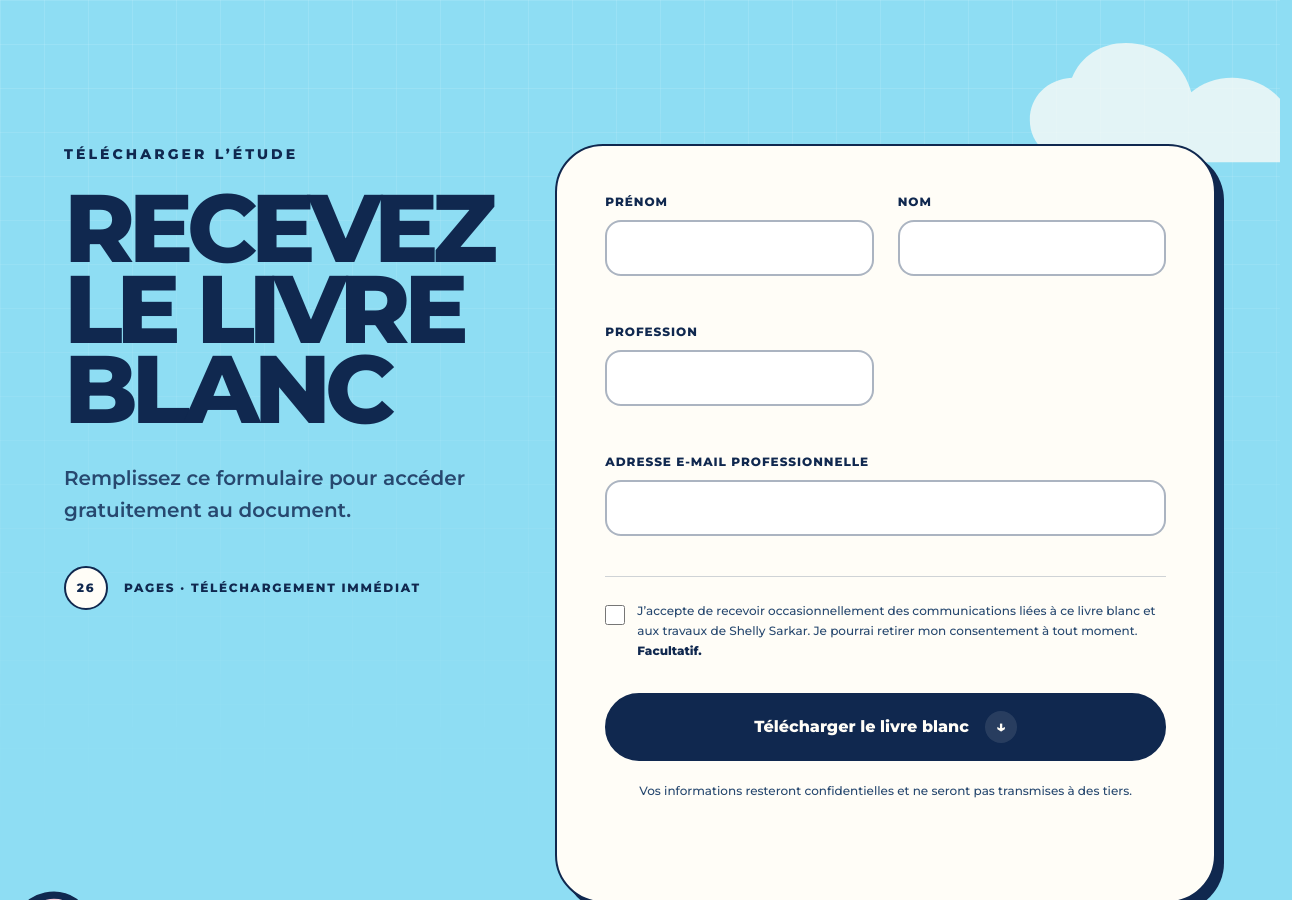
Test: download form › announces empty-field errors and focuses the first invalid field
Click the button "Télécharger le livre blanc ↓" at (886, 727), box x1=605 y1=693 x2=1166 y2=761
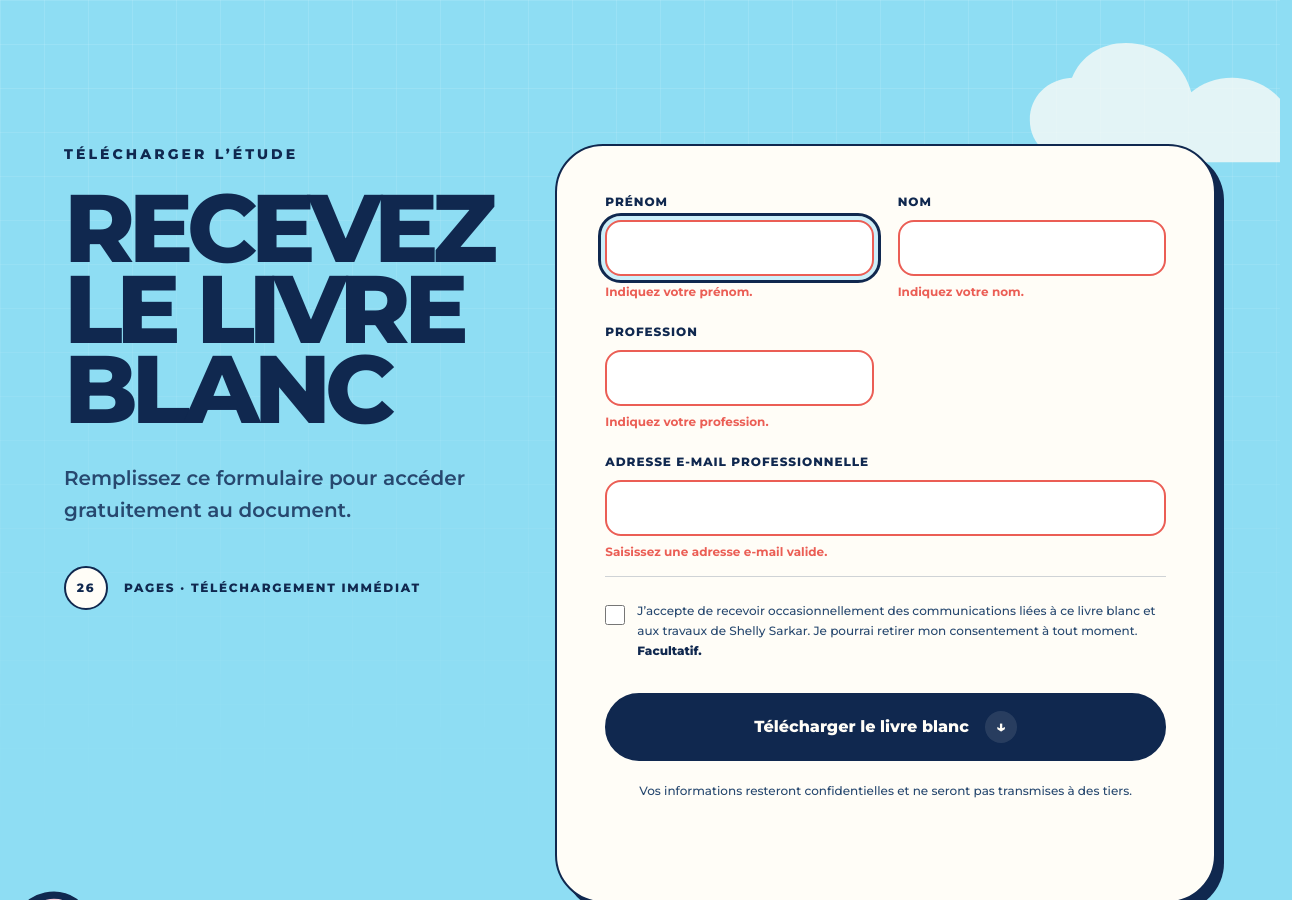
Check: the number of messages is 4, box x1=605 y1=284 x2=752 y2=299; x1=898 y1=284 x2=1024 y2=299; x1=605 y1=414 x2=769 y2=429; x1=605 y1=544 x2=827 y2=559
Check: the text "Indiquez votre prénom." is shown, box x1=605 y1=284 x2=752 y2=299
Check: the text "Saisissez une adresse e-mail valide." is shown, box x1=605 y1=544 x2=827 y2=559
